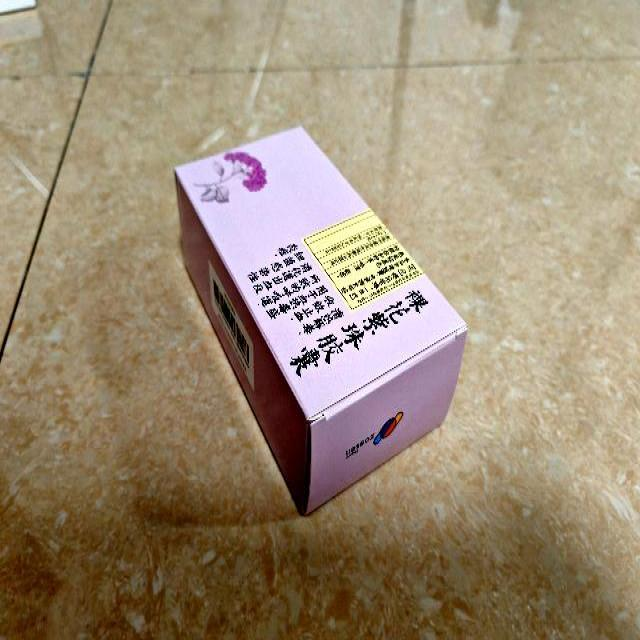box: (174, 126, 466, 516)
